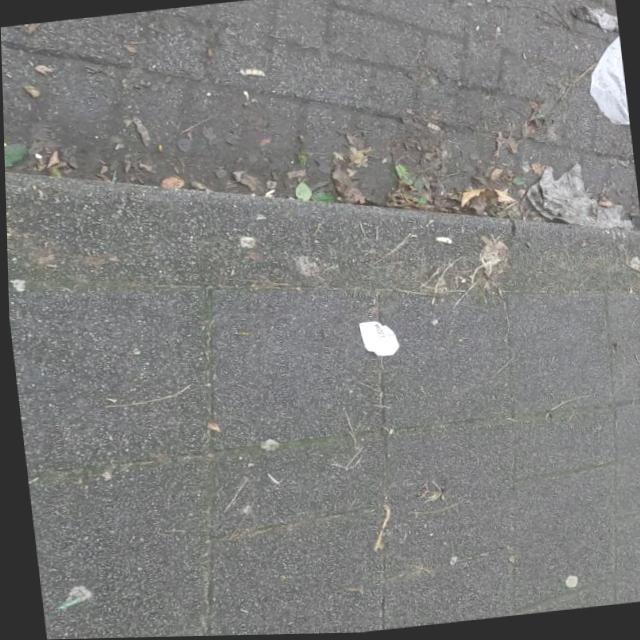Paper: (354, 320, 398, 361)
